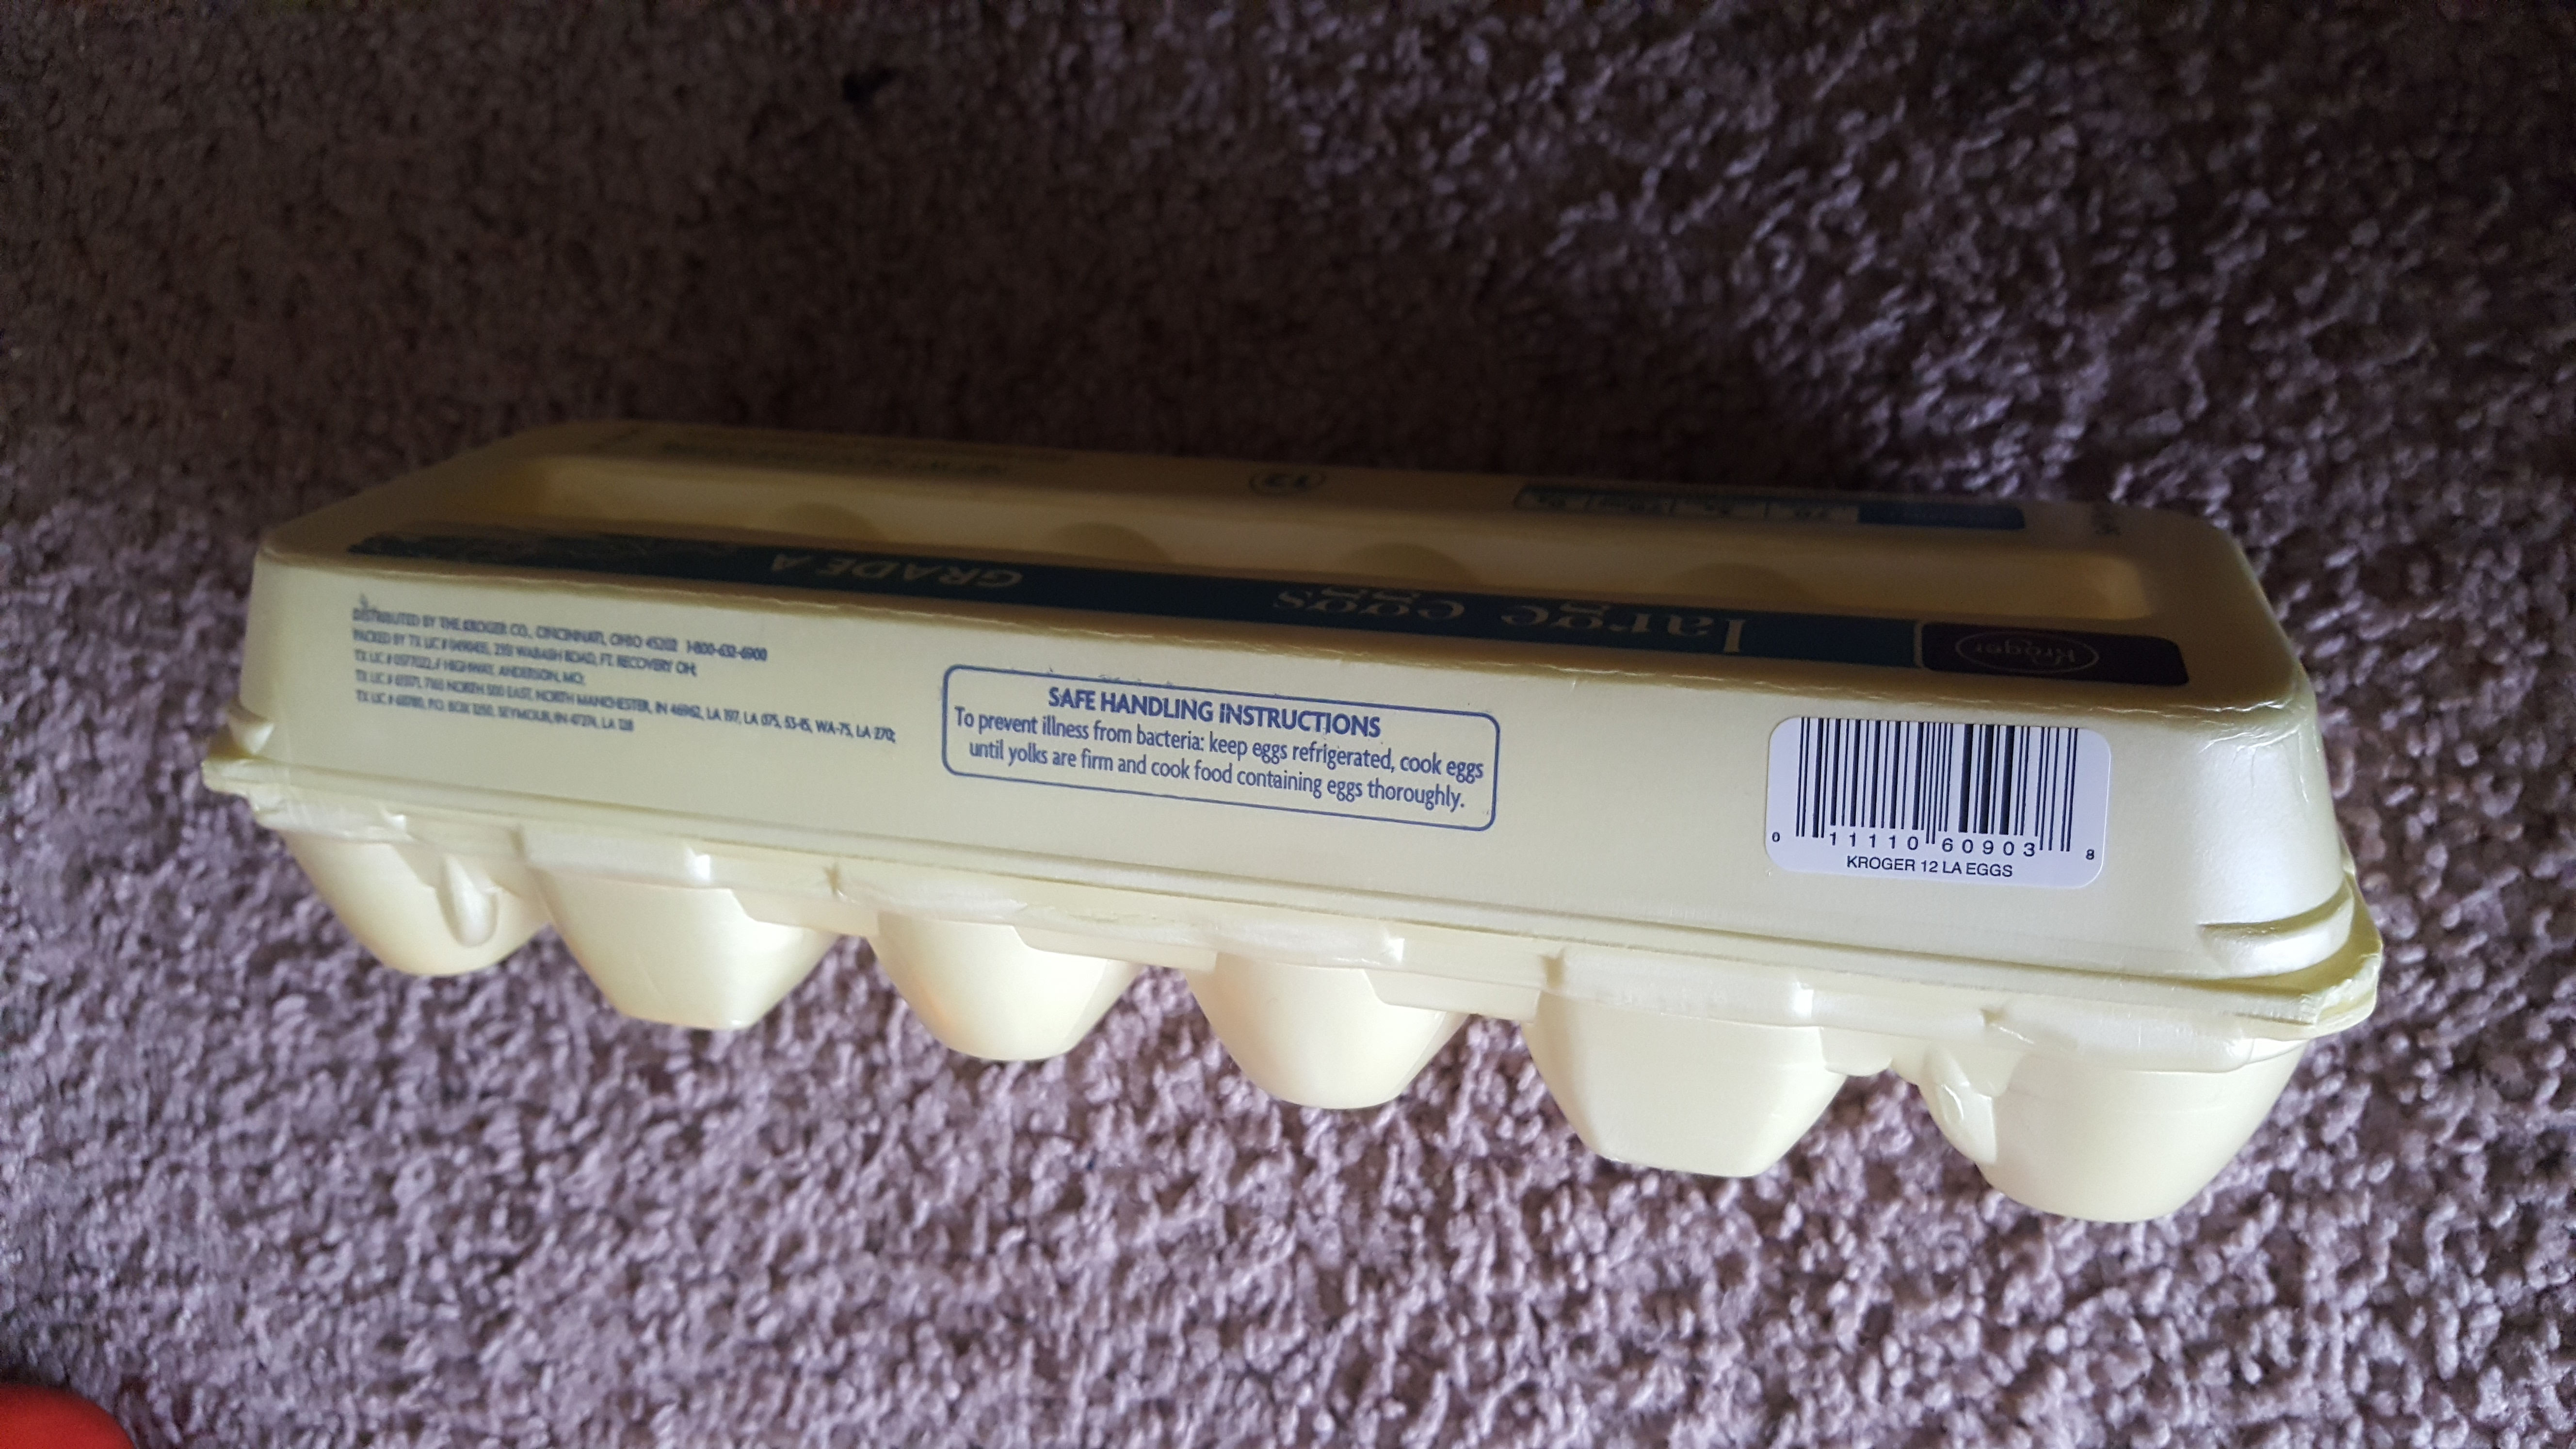eggs: (195, 405, 2392, 1242)
